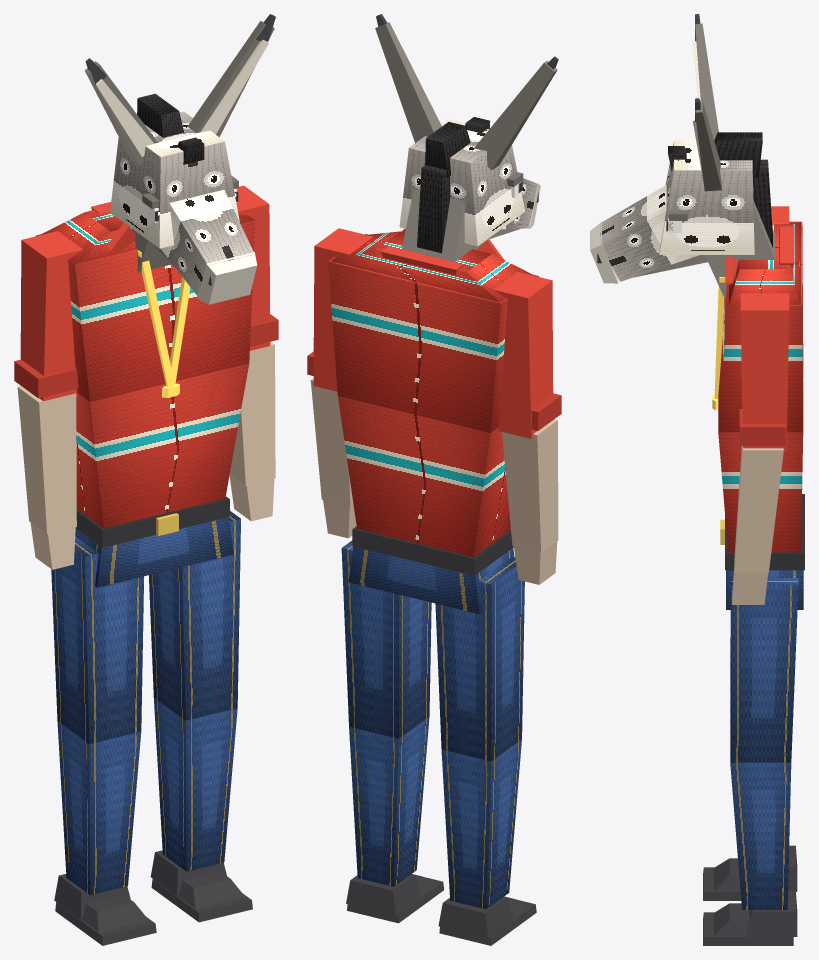
The model's file is npc_herd_2.glb.
3 renders of one model, left to right at view 1: azimuth 30°, elevation 25°; view 2: azimuth 150°, elevation 25°; view 3: azimuth 270°, elevation 25°, orthographic. The views are drawn at different scales.
Parts seen in each view (by area): view 1: body, legL, legR, head, armL, armR; view 2: body, legL, legR, head, armL, armR; view 3: legR, head, body, armR, legL.
Part boxes in pixels (box(x1,y1,x2,y2)): body: box(35, 202, 255, 587); legL: box(51, 536, 156, 945); legR: box(149, 511, 252, 922); head: box(84, 14, 275, 304); armL: box(14, 231, 82, 569); armR: box(229, 185, 278, 521); body: box(328, 228, 538, 613); legL: box(435, 556, 536, 945); legR: box(341, 540, 444, 923); head: box(375, 14, 558, 261); armL: box(493, 272, 561, 584); armR: box(307, 228, 373, 538); legR: box(703, 578, 798, 945); head: box(590, 14, 774, 298); body: box(712, 221, 804, 609); armR: box(732, 293, 789, 604); legL: box(703, 610, 797, 900).
Bounding box in the file's own units: 0.6441 × 2.29 × 0.5206.
Materials: 22 (4 with a texture image).
